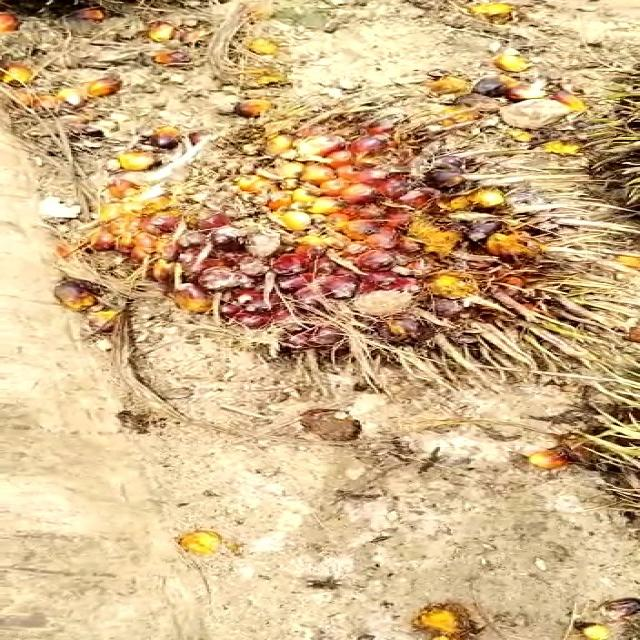palm oil: (99, 99, 590, 399)
